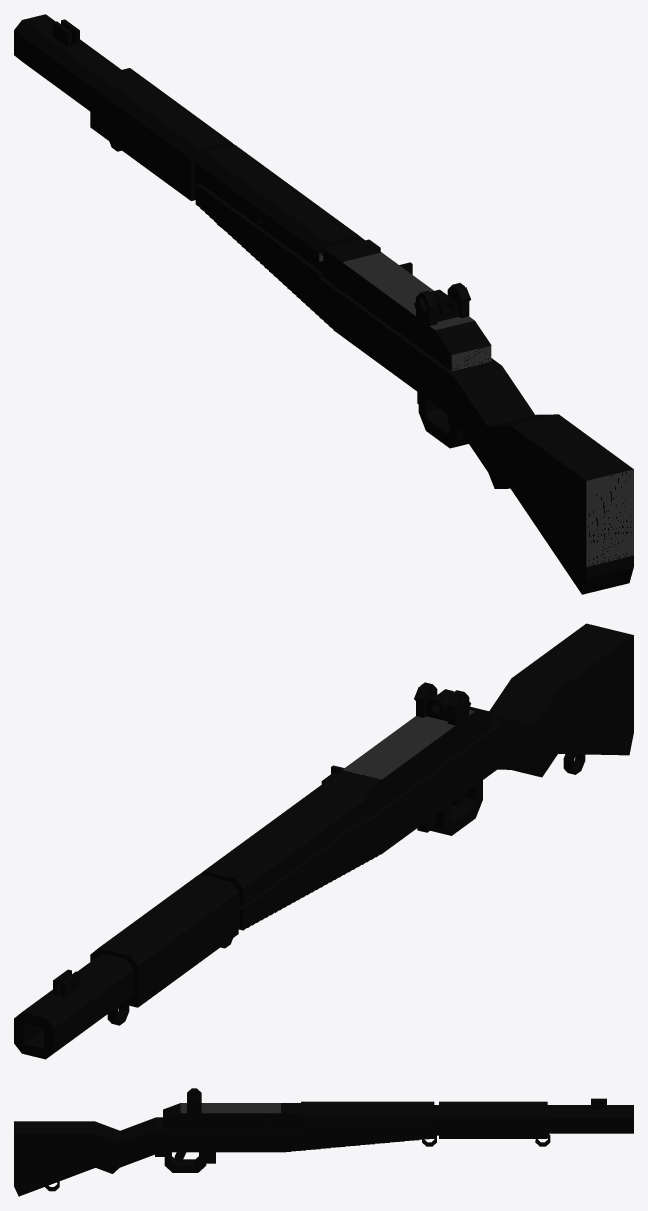
Rendered from mteg_m1_garand.glb.
The picture shows the model from 3 angles, top to bottom: view 1: azimuth 30°, elevation 25°; view 2: azimuth 150°, elevation 25°; view 3: azimuth 270°, elevation 25°; orthographic projection. The views are drawn at different scales.
Parts seen in each view (by area): view 1: Gun; view 2: Gun; view 3: Gun.
Boxes of the visible parts, box(x1,y1,x2,y2) form: Gun: box(14, 14, 633, 594); Gun: box(14, 623, 633, 1059); Gun: box(14, 1088, 633, 1196).
Bounding box in the file's own units: 0.1 × 0.2712 × 1.57.
Materials: 1 (1 with a texture image).
